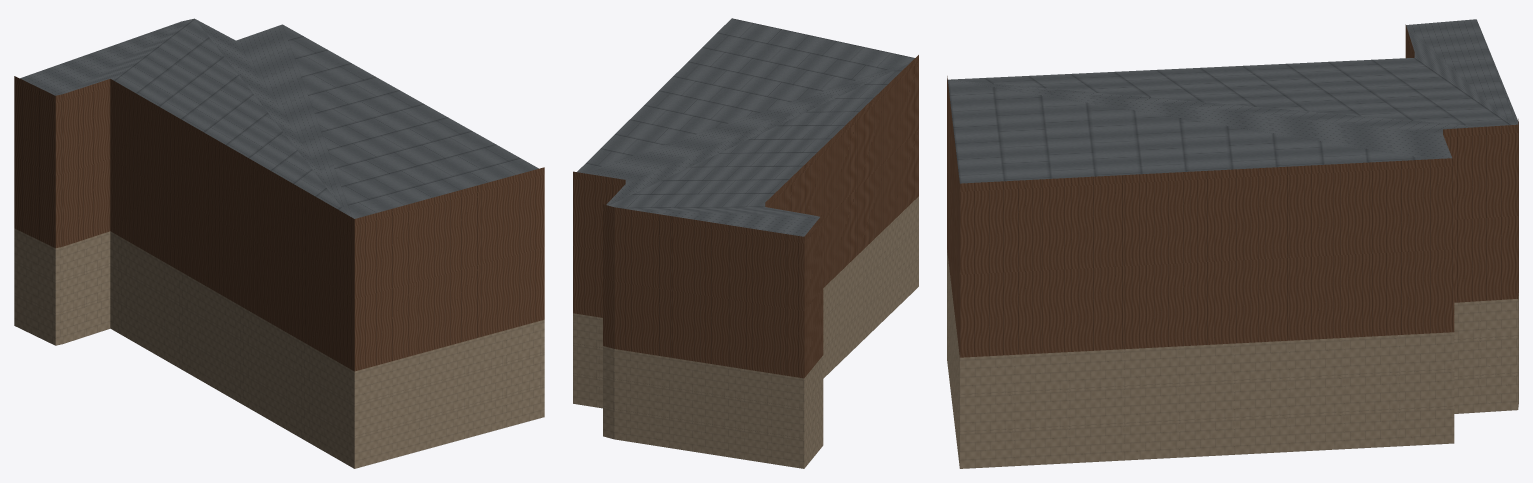
The model's file is bld_c9_16_452.gltf.
3 renders of one model, left to right at view 1: azimuth 30°, elevation 25°; view 2: azimuth 150°, elevation 25°; view 3: azimuth 270°, elevation 25°, orthographic. The views are drawn at different scales.
Visible parts, largest first — view 1: bld_c9_16_452; view 2: bld_c9_16_452; view 3: bld_c9_16_452.
Boxes of the visible parts, x1,y1,x2,y2 form: bld_c9_16_452: (14,18,544,468); bld_c9_16_452: (573,18,918,468); bld_c9_16_452: (947,19,1518,468).
Size of the model in its own units: 16.67 by 13.08 by 23.75.
4 materials, 4 textured.
